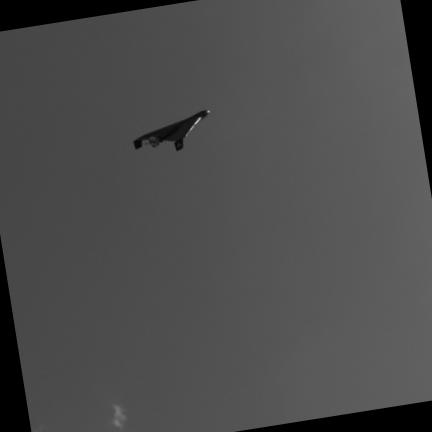Shahed: (134, 110, 210, 150)
